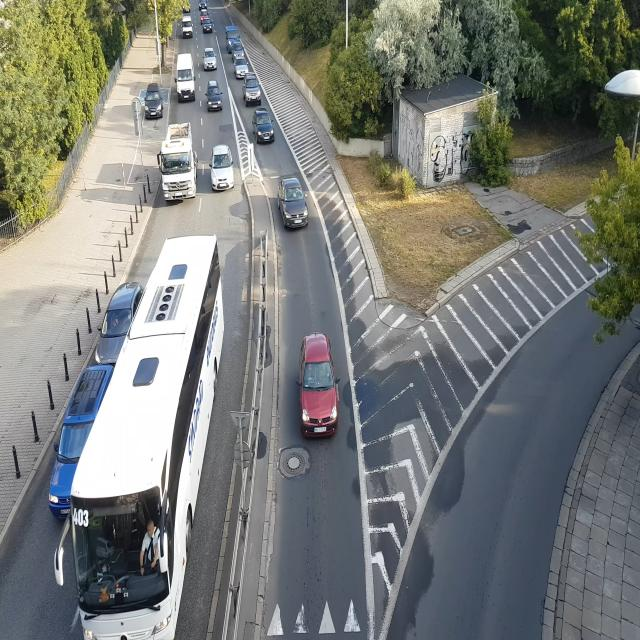bus: (72, 442, 175, 640)
car: (36, 385, 97, 525), (294, 336, 342, 443), (88, 275, 136, 358), (275, 168, 312, 232), (211, 144, 234, 194), (174, 54, 196, 106), (250, 109, 276, 144), (205, 80, 225, 116), (144, 89, 166, 118), (242, 76, 263, 106), (202, 44, 218, 71), (224, 23, 238, 50), (180, 16, 193, 36), (236, 61, 250, 79), (200, 16, 213, 34), (232, 44, 245, 58), (199, 8, 210, 18), (198, 0, 207, 8)
truck: (158, 125, 198, 200)
